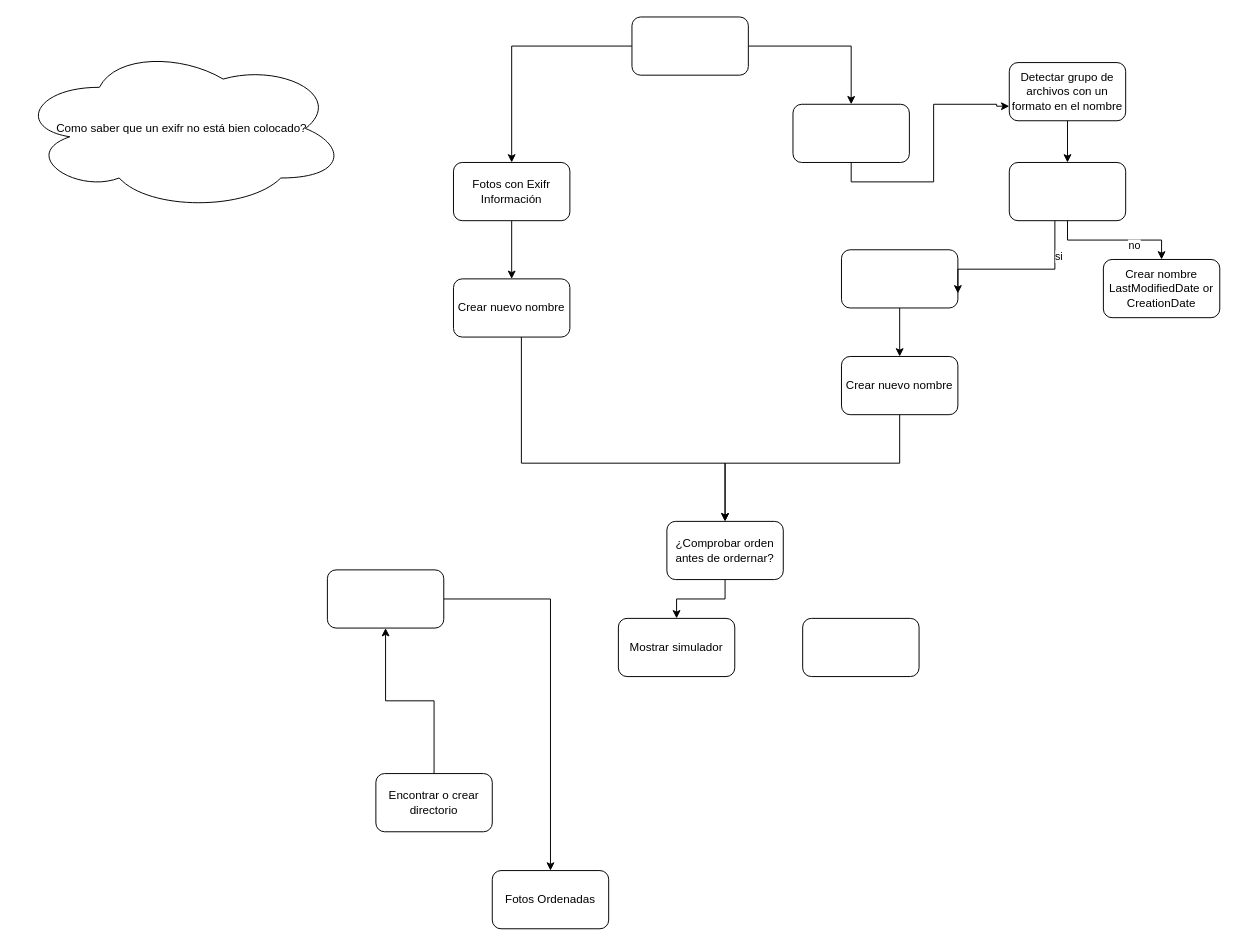
This 1237x946 diagram has some shape labels left out. The shapes that lost their labels are listed below. From the top down, each one's centre as x and y in pixels, then its label:
At point (689, 45): "Fotos desordenadas".
At point (850, 132): "Fotos sin Exifr Información".
At point (1067, 191): "Detectar si tiene una fecha y hora en el nombre".
At point (899, 278): "Tomar fecha del nombre".
At point (385, 598): "Mover fotos a la carpeta".
